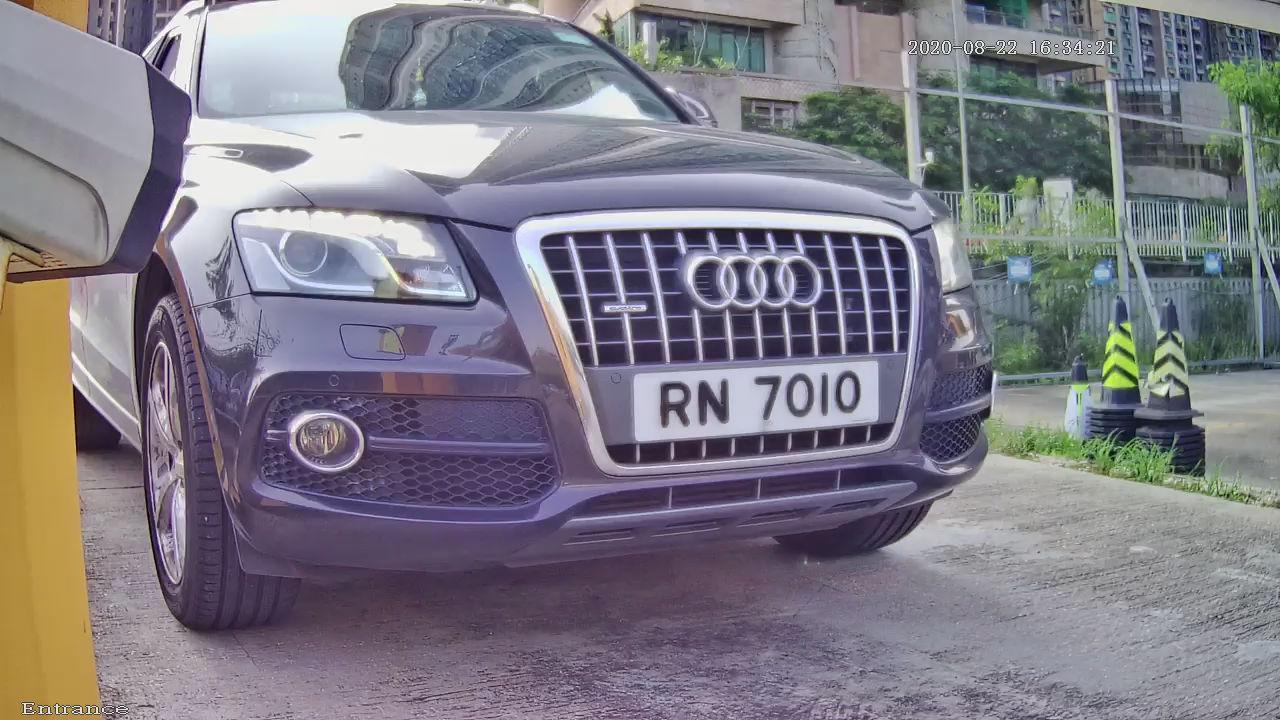Car: (52, 20, 1081, 640)
License Plate: (607, 329, 901, 464)
